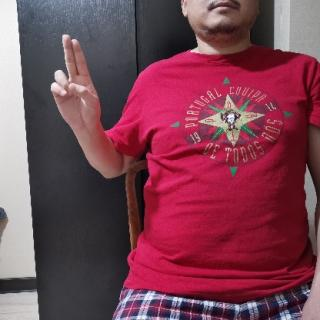TA: (48, 31, 103, 139)
